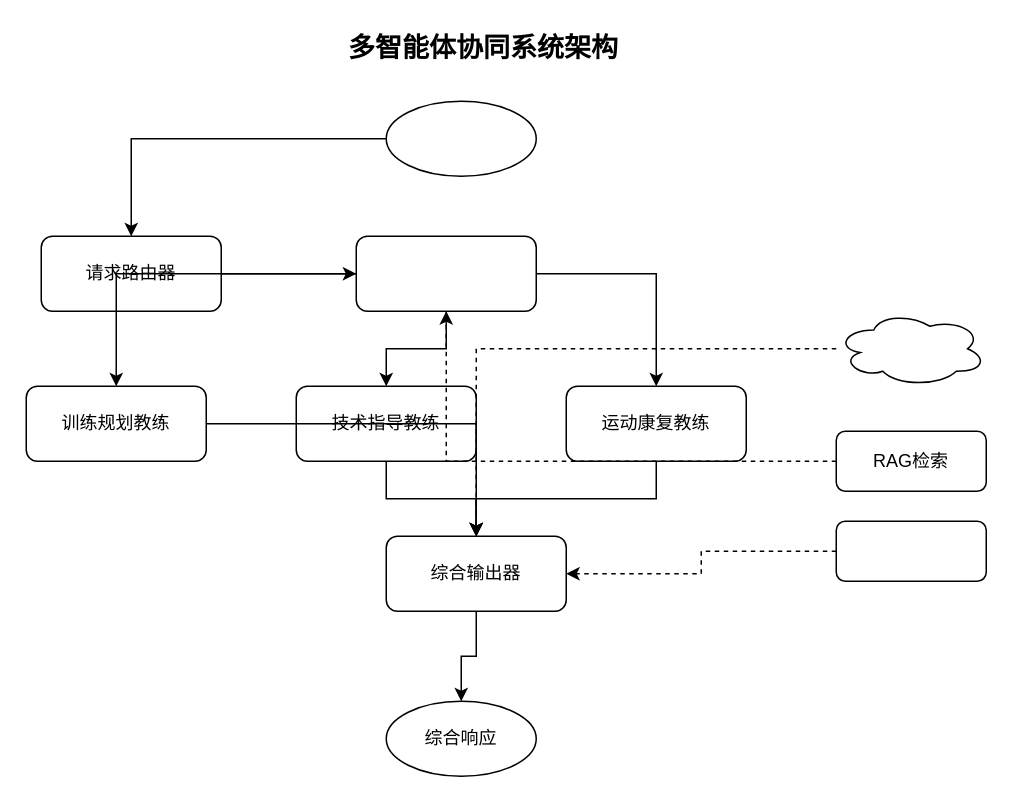
This 1013x803 diagram has some shape labels left out. Each missing label, with the centre of its shape:
"大语言模型" belongs at pixel 910 348.
"工作流引擎" belongs at pixel 445 273.
"用户请求" belongs at pixel 460 138.
"记忆服务" belongs at pixel 910 550.
